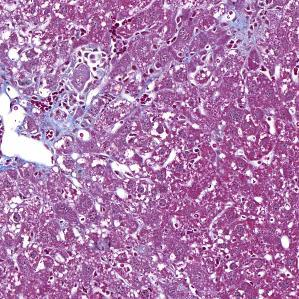fibrosis: (28, 54, 131, 140), (224, 6, 276, 51)
